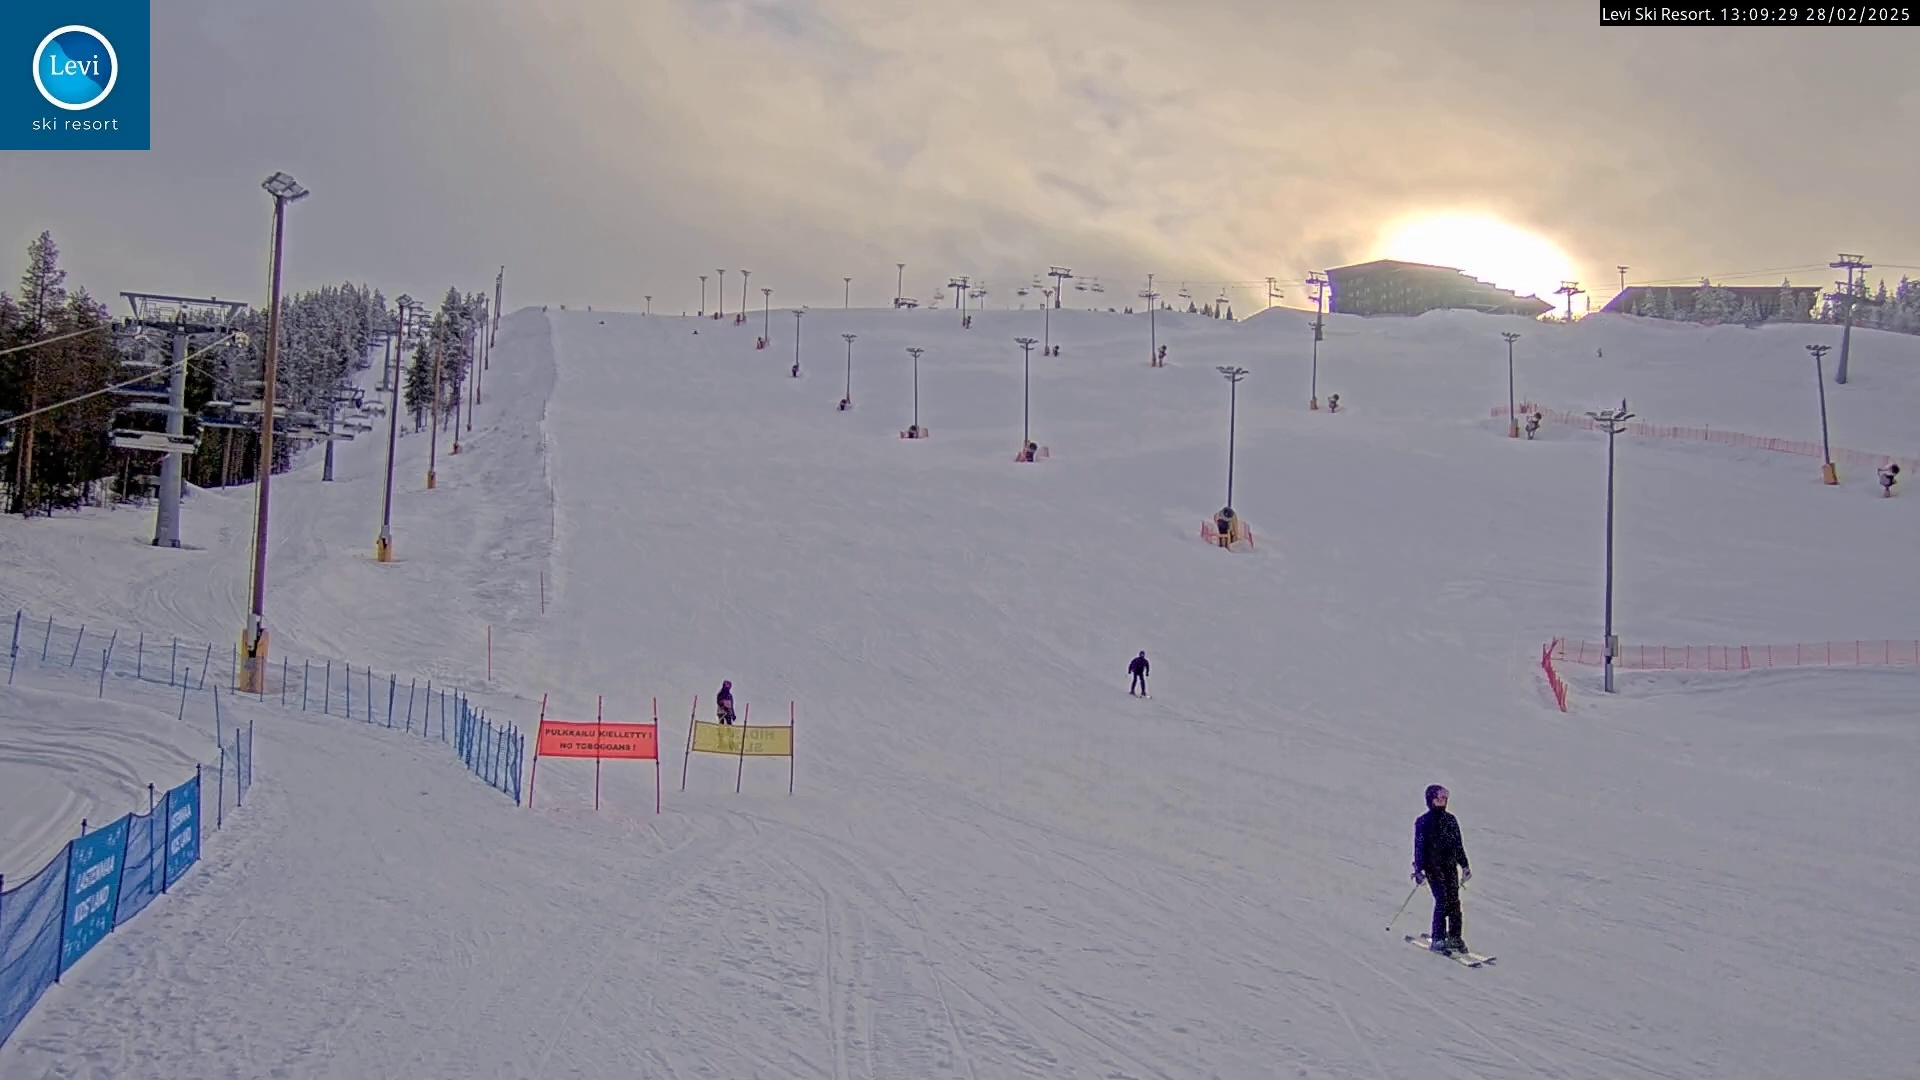skier: (1385, 778, 1494, 968)
